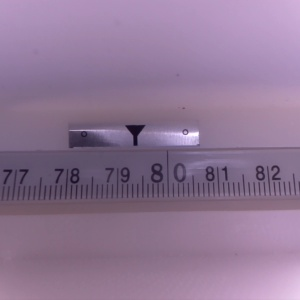0: (173, 162, 187, 182)
2: (270, 165, 281, 180)
7: (53, 168, 64, 184), (18, 169, 29, 185), (1, 169, 12, 185), (103, 167, 113, 183)
8: (150, 163, 163, 182), (69, 168, 80, 184), (255, 165, 265, 181), (206, 166, 215, 181)
9: (119, 167, 129, 183)
finger: (122, 124, 146, 146)
